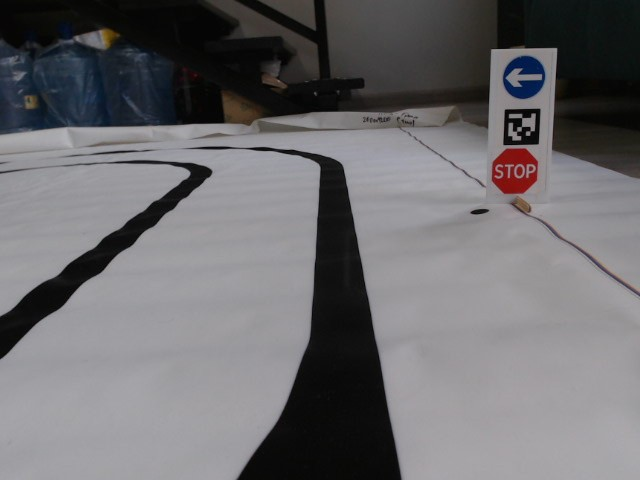Stop: (489, 147, 540, 196)
